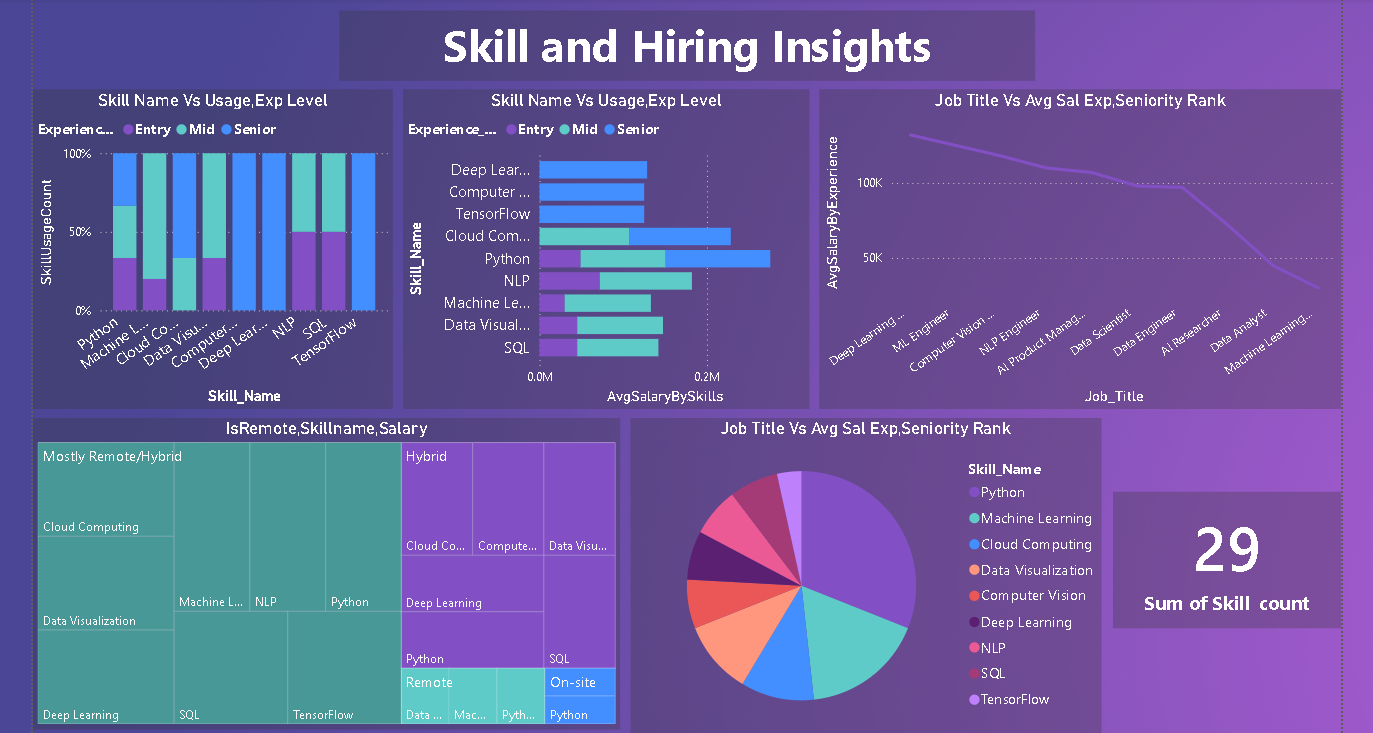

The page's visual inventory and layout, read from the dashboard file:
{"tool":"powerbi","page":{"name":"Skills And Hiring Insights ","canvas":[1280,720],"ordinal":3},"visuals":[{"type":"textbox","box":[299.6,12.2,681.1,68.5],"z":0},{"type":"hundredPercentStackedColumnChart","title":"Skill Name Vs Usage,Exp Level","fields":{"Category":["Dim_Skills.Skill_Name"],"Y":["Dim_Skills.SkillsageCount"],"Series":["Fact_Jobs.Experience_Level"]},"box":[0,89.3,352.2,313],"z":1000},{"type":"treemap","title":"IsRemote,Skillname,Salary","fields":{"Group":["Fact_Jobs.Is_remote"],"Details":["Dim_Skills.Skill_Name"],"Values":["Sum(Fact_Jobs.Salary_USD)"]},"box":[0,410.9,574.7,304.5],"z":2000},{"type":"cardVisual","title":"Total Jobs","fields":{"Data":["Sum(Fact_Jobs.Skill_count)"]},"box":[1056.5,483,223.8,133.3],"z":3000},{"type":"lineChart","title":"Job Title Vs Avg Sal Exp,Seniority Rank","fields":{"Category":["Fact_Jobs.Job_Title"],"Y":["Fact_Jobs.AvgSalaryByExperience"]},"box":[768.9,89.3,511.1,313],"z":4000},{"type":"barChart","title":"Skill Name Vs Usage,Exp Level","fields":{"Category":["Dim_Skills.Skill_Name"],"Series":["Fact_Jobs.Experience_Level"],"Y":["Dim_Skills.AvgSalaryBySkills"]},"box":[362,89.3,397.4,313],"z":5000},{"type":"pieChart","title":"Job Title Vs Avg Sal Exp,Seniority Rank","fields":{"Category":["Dim_Skills.Skill_Name"],"Y":["Dim_Skills.SkillUsageCount"]},"box":[584.5,410.9,461,309.4],"z":6000}]}

Visuals, with their boxes on the page's 1280x720 design canvas (x1, y1, x2, y2). These are canvas units, not pixel positions in the 1373x733 screenshot, which may show the page scaled, cropped or inside an application window:
textbox: (x1=300, y1=12, x2=981, y2=81)
"Skill Name Vs Usage,Exp Level" hundredPercentStackedColumnChart: (x1=0, y1=89, x2=352, y2=402)
"IsRemote,Skillname,Salary" treemap: (x1=0, y1=411, x2=575, y2=715)
"Total Jobs" cardVisual: (x1=1056, y1=483, x2=1280, y2=616)
"Job Title Vs Avg Sal Exp,Seniority Rank" lineChart: (x1=769, y1=89, x2=1280, y2=402)
"Skill Name Vs Usage,Exp Level" barChart: (x1=362, y1=89, x2=759, y2=402)
"Job Title Vs Avg Sal Exp,Seniority Rank" pieChart: (x1=584, y1=411, x2=1046, y2=720)
